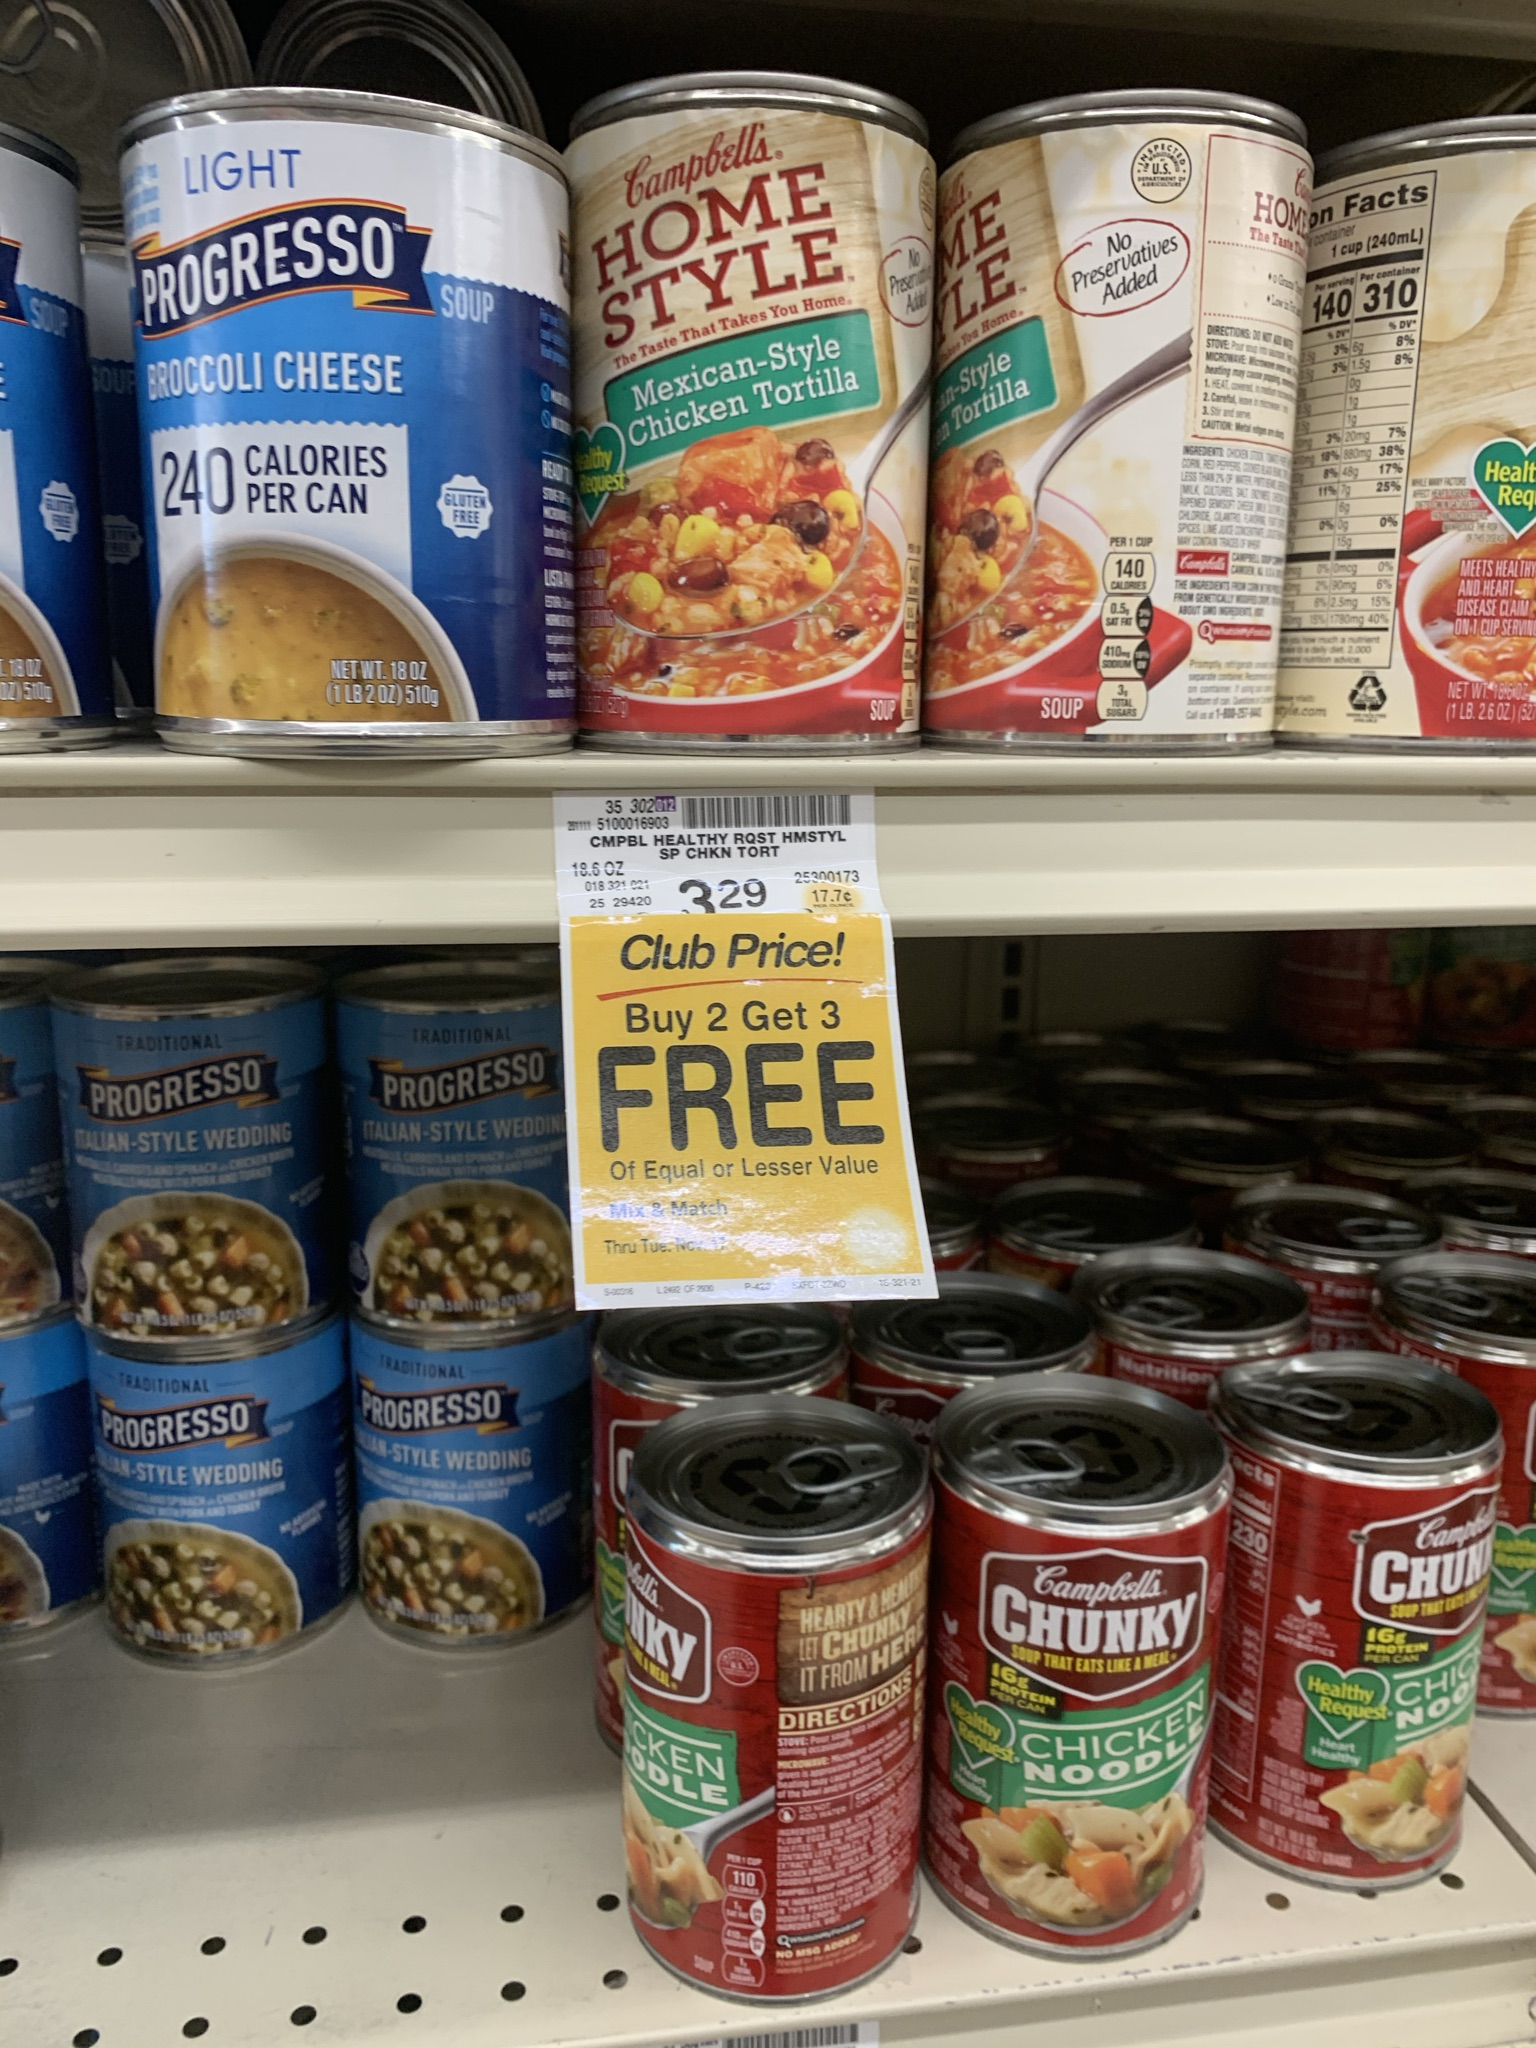can: (169, 119, 563, 735), (597, 121, 918, 735), (973, 139, 1276, 734), (649, 1479, 918, 1934), (1328, 169, 1536, 740), (973, 1453, 1207, 1913), (1241, 1401, 1467, 1850), (71, 1006, 319, 1317), (106, 1359, 349, 1619), (363, 1009, 560, 1322), (381, 1356, 566, 1632)
